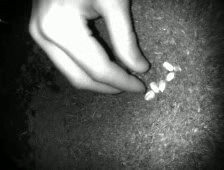corn: (155, 77, 170, 93), (161, 59, 175, 74), (148, 79, 161, 95), (141, 88, 157, 101), (164, 71, 176, 82), (172, 63, 183, 74)
